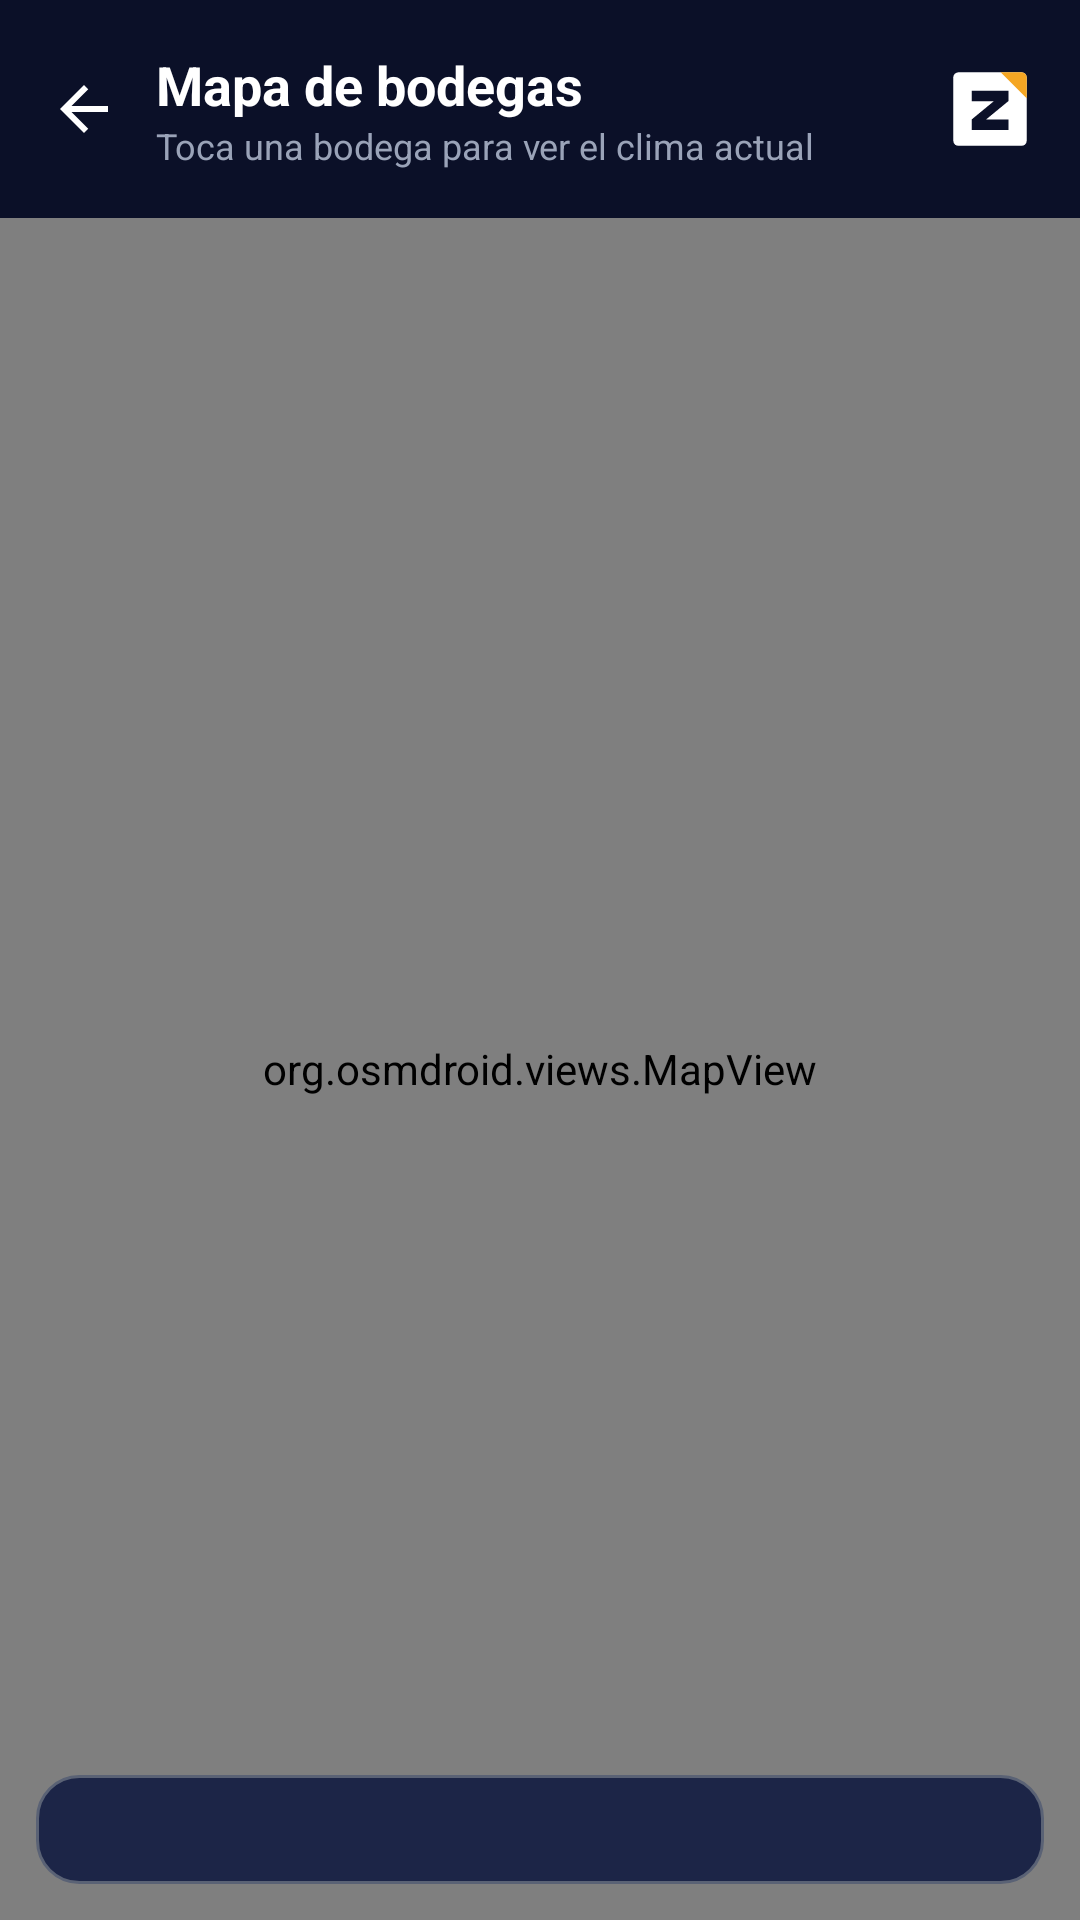

Named icons in this screenshot (1080w x 1920h) and their centers, (x=x, y=y):
Volver: (x=84, y=109)
